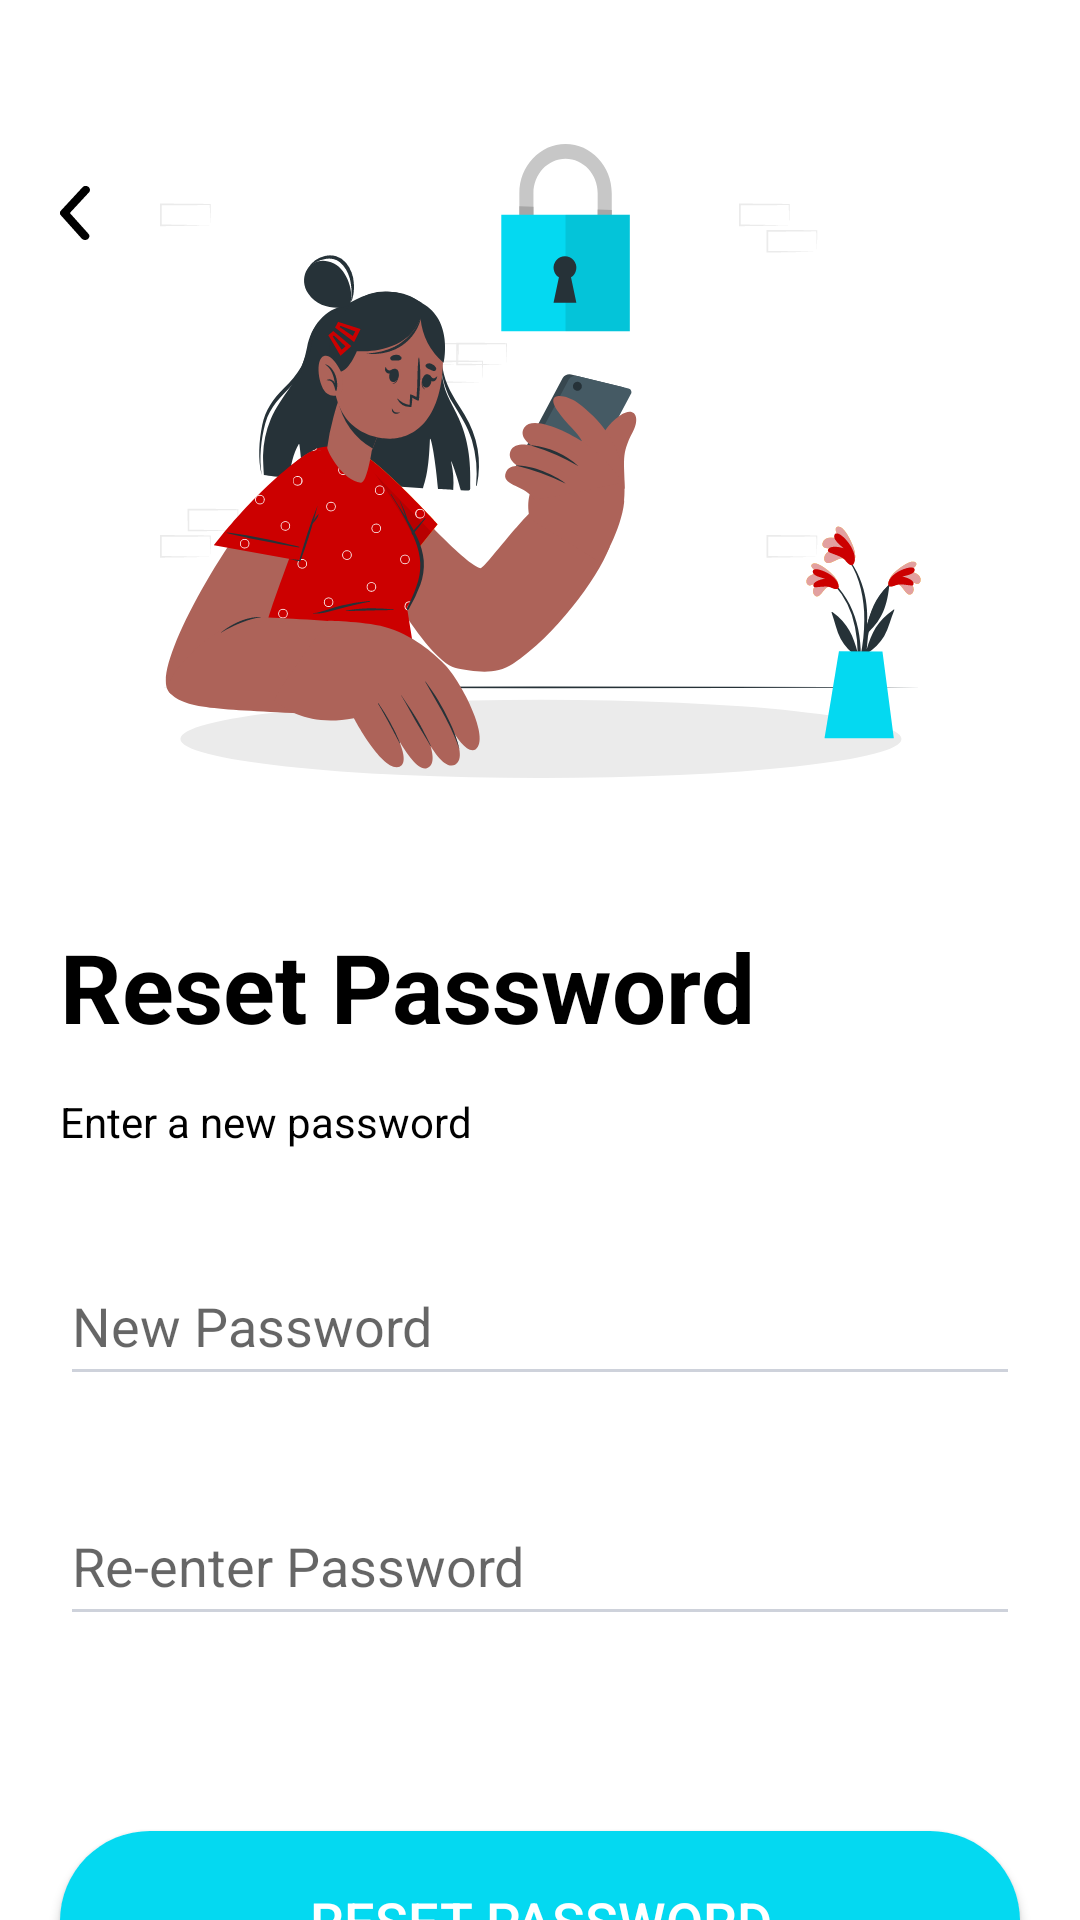

Where icons sit on this 1080x1920 app screen, as (x1, y1, x2, y2):
back: (60, 186, 90, 240)
